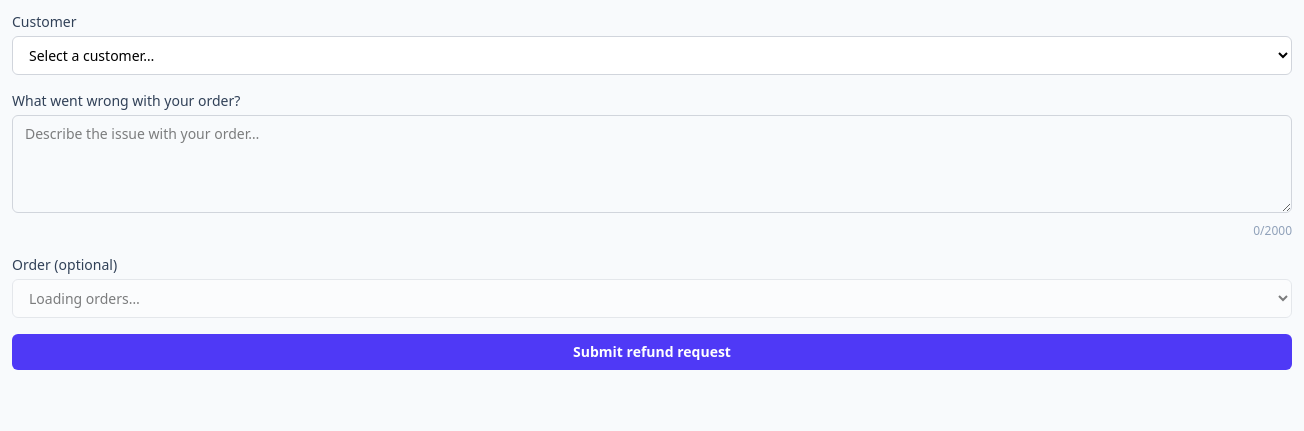
Test: RequestForm › clears the text error once the user types
This screenshot has width=1304, height=431.
Step 1. Click the button "Submit refund request" → coordinates (652, 352), box [12,334,1292,370]
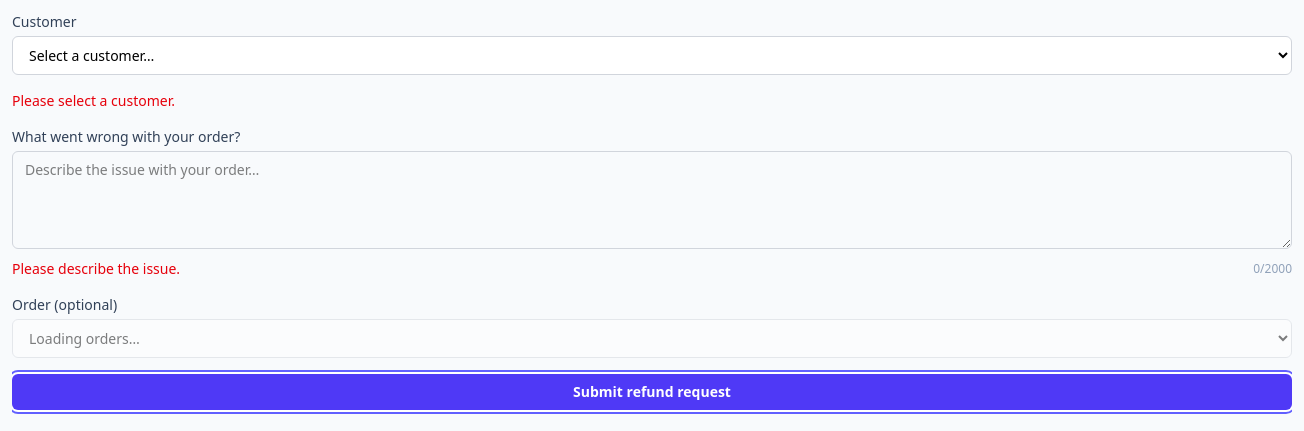
Check: the text "Please describe the issue." is shown, box [12,259,180,279]
Step 2. Type "x" into the text box labelled "What went wrong with your order?" → coordinates (652, 200), box [12,151,1292,249]
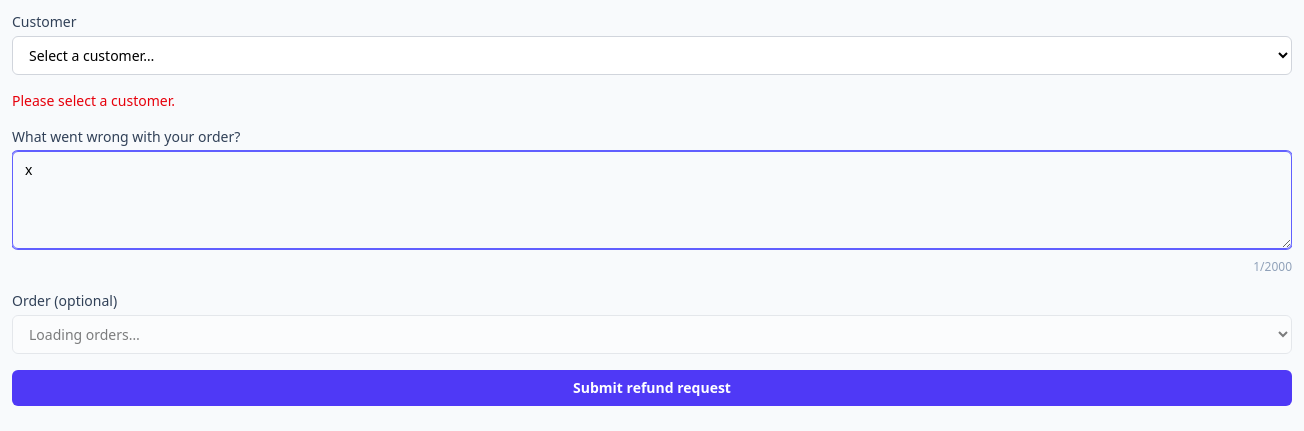
Check: the text "Please select a customer." is shown, box [12,91,175,110]
Check: the text "Please describe the issue." is gone
